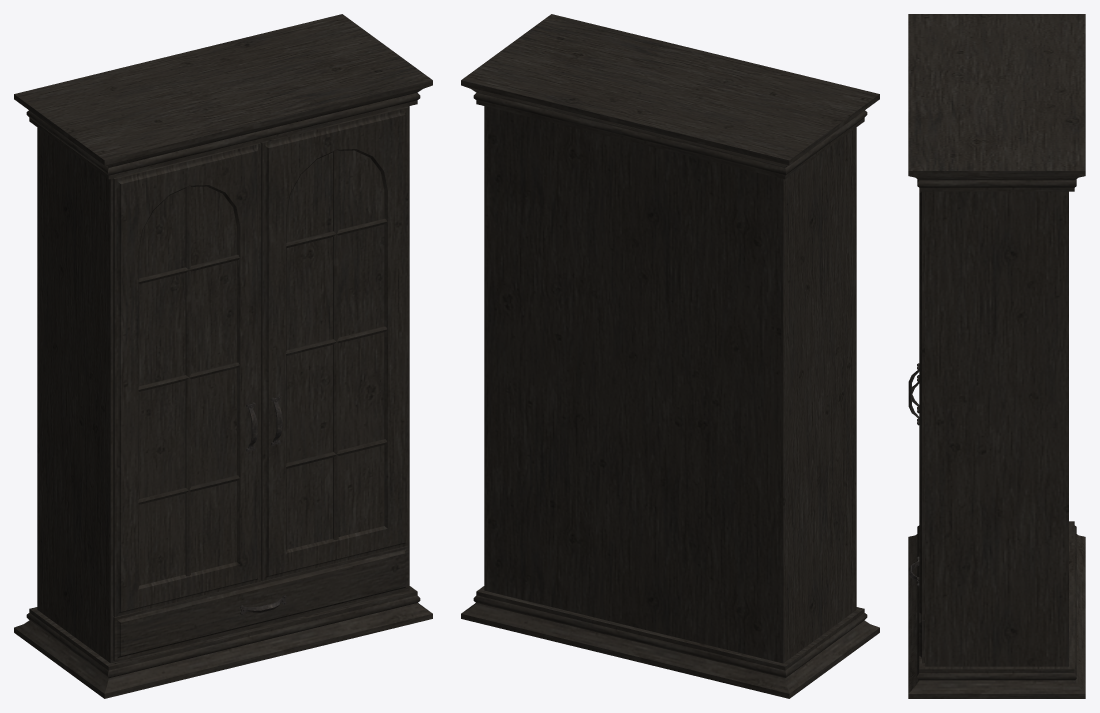
Rendered from wardrobe_mp_1.obj.
The picture shows the model from 3 angles, left to right: view 1: azimuth 30°, elevation 25°; view 2: azimuth 150°, elevation 25°; view 3: azimuth 270°, elevation 25°; orthographic projection. The views are drawn at different scales.
Parts seen in each view (by area): view 1: wardrobe_mp_1, wardrobe_mp_1_door_1, wardrobe_mp_1_door_2, wardrobe_mp_1_drawer; view 2: wardrobe_mp_1; view 3: wardrobe_mp_1, wardrobe_mp_1_door_2, wardrobe_mp_1_drawer.
Part boxes in pixels (box(x1,y1,x2,y2)): wardrobe_mp_1: box(14, 14, 432, 698); wardrobe_mp_1_door_1: box(113, 142, 261, 617); wardrobe_mp_1_door_2: box(260, 106, 408, 581); wardrobe_mp_1_drawer: box(113, 546, 408, 661); wardrobe_mp_1: box(461, 14, 879, 698); wardrobe_mp_1: box(908, 14, 1085, 698); wardrobe_mp_1_door_2: box(908, 191, 924, 619); wardrobe_mp_1_drawer: box(908, 556, 924, 662).
Bounding box in the file's own units: 1.34 × 2.1 × 0.64.
